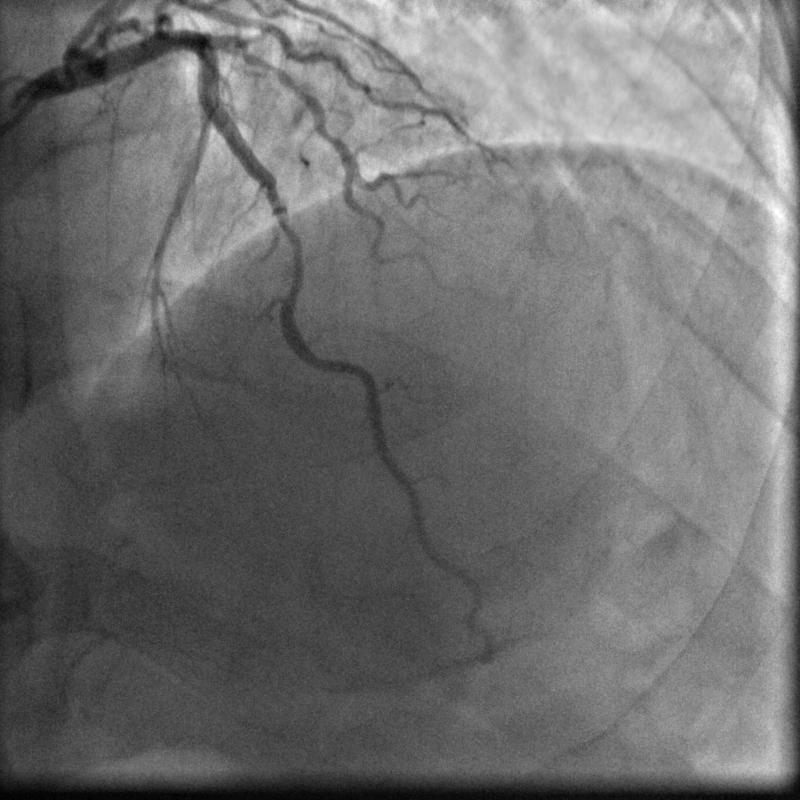Stenosis: (264, 186, 302, 292)
